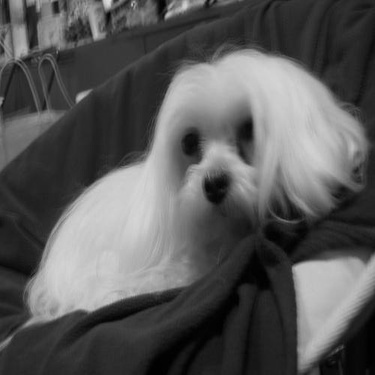dog: (1, 42, 369, 352)
